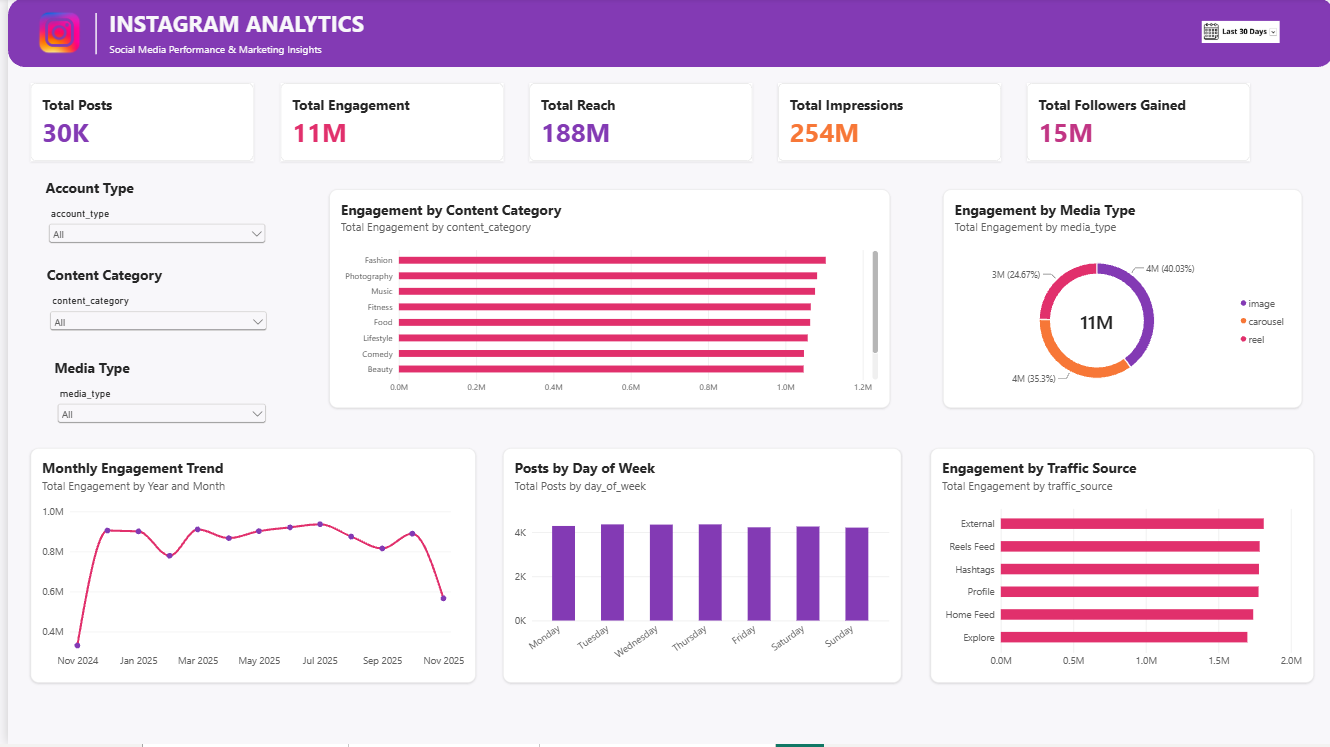

The dashboard page shown, as its layout file describes it:
{"tool":"powerbi","page":{"name":"Performance Overview","canvas":[1920,1080],"ordinal":0},"visuals":[{"type":"shape","box":[0,0,1920,100],"z":0},{"type":"textbox","box":[145.7,14.3,382,48],"z":1000},{"type":"textbox","box":[145.7,62.9,320,37.1],"z":2000},{"type":"image","box":[32.9,7.1,84.3,85.7],"z":3000},{"type":"shape","box":[55.7,21.4,142.9,60],"z":4000},{"type":"image","box":[1728.3,31.7,112.5,36.7],"z":5000},{"type":"cardVisual","fields":{"Data":["Instagram_Analytics.Total Posts"]},"box":[33.3,123.3,323.3,113.3],"z":6000},{"type":"cardVisual","fields":{"Data":["Instagram_Analytics.Total Engagement"]},"box":[393.8,123.3,323.3,113.3],"z":7000},{"type":"cardVisual","fields":{"Data":["Instagram_Analytics.Total Reach"]},"box":[754.2,123.3,323.3,113.3],"z":8000},{"type":"cardVisual","fields":{"Data":["Instagram_Analytics.Total Impressions"]},"box":[1114.6,123.3,323.3,113.3],"z":9000},{"type":"cardVisual","fields":{"Data":["Instagram_Analytics.Total Followers Gained"]},"box":[1475,123.3,323.3,113.3],"z":10000},{"type":"clusteredBarChart","title":"Engagement by Content Category","fields":{"Category":["Instagram_Analytics.content_category"],"Y":["Instagram_Analytics.Total Engagement"]},"box":[465,276.7,811.7,316.7],"z":11000},{"type":"donutChart","title":"Engagement by Media Type","fields":{"Category":["Instagram_Analytics.media_type"],"Y":["Instagram_Analytics.Total Engagement"]},"box":[1353.3,276.7,520,316.7],"z":12000},{"type":"lineChart","title":"Monthly Engagement Trend","fields":{"Category":["Instagram_Analytics.post_date.Variation.Date Hierarchy.Year","Instagram_Analytics.post_date.Variation.Date Hierarchy.Month"],"Y":["Instagram_Analytics.Total Engagement"]},"box":[33.3,651.7,645,340],"z":13000},{"type":"clusteredColumnChart","title":"Posts by Day of Week","fields":{"Category":["DimDay.day_of_week"],"Y":["Instagram_Analytics.Total Posts"]},"box":[716.7,651.7,576.7,340],"z":14000},{"type":"clusteredBarChart","title":"Engagement by Traffic Source","fields":{"Category":["Instagram_Analytics.traffic_source"],"Y":["Instagram_Analytics.Total Engagement"]},"box":[1335,651.7,555,340],"z":15000},{"type":"slicer","title":"Account Type","fields":{"Values":["Instagram_Analytics.account_type"]},"box":[55,260,323.3,126.7],"z":16000},{"type":"slicer","title":"Content Category","fields":{"Values":["Instagram_Analytics.content_category"]},"box":[56.7,386.7,323.3,120],"z":17000},{"type":"slicer","title":"Media Type","fields":{"Values":["Instagram_Analytics.media_type"]},"box":[66.7,521.7,311.7,103.3],"z":18000}]}

Visuals, with their boxes in screenshot pixels (x1, y1, x2, y2), scaled from the page's 1920x1080 canvas onto the 1330x747 screenshot:
shape: (0, 0, 1329, 69)
textbox: (101, 10, 366, 43)
textbox: (101, 44, 323, 69)
image: (23, 5, 81, 64)
shape: (39, 15, 138, 56)
image: (1197, 22, 1275, 47)
cardVisual - Instagram_Analytics.Total Posts: (23, 85, 247, 164)
cardVisual - Instagram_Analytics.Total Engagement: (273, 85, 497, 164)
cardVisual - Instagram_Analytics.Total Reach: (522, 85, 746, 164)
cardVisual - Instagram_Analytics.Total Impressions: (772, 85, 996, 164)
cardVisual - Instagram_Analytics.Total Followers Gained: (1022, 85, 1246, 164)
"Engagement by Content Category" clusteredBarChart: (322, 191, 884, 410)
"Engagement by Media Type" donutChart: (937, 191, 1298, 410)
"Monthly Engagement Trend" lineChart: (23, 451, 470, 686)
"Posts by Day of Week" clusteredColumnChart: (496, 451, 896, 686)
"Engagement by Traffic Source" clusteredBarChart: (925, 451, 1309, 686)
"Account Type" slicer: (38, 180, 262, 267)
"Content Category" slicer: (39, 267, 263, 350)
"Media Type" slicer: (46, 361, 262, 432)
